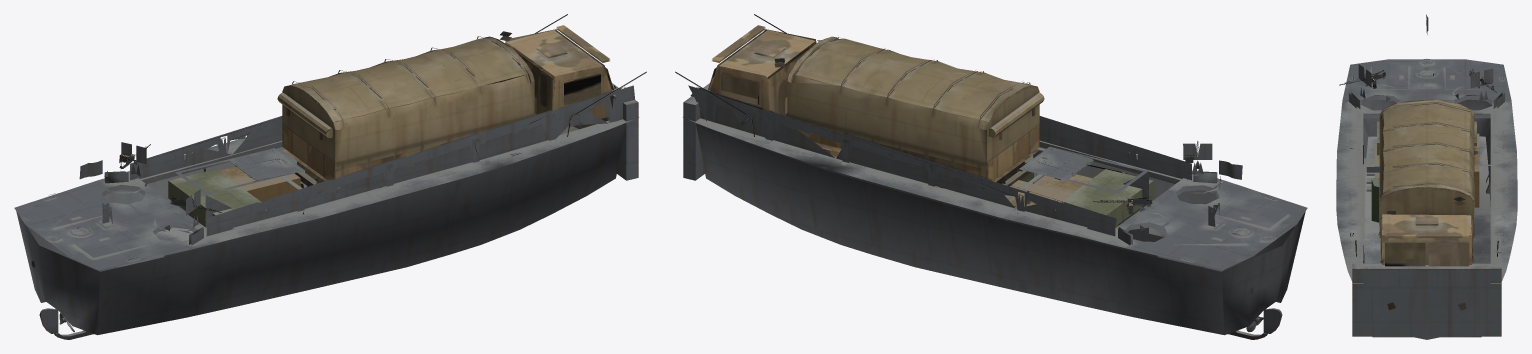
File: fh_battle_e_ship_landing.glb
The picture shows the model from 3 angles, left to right: view 1: azimuth 30°, elevation 25°; view 2: azimuth 150°, elevation 25°; view 3: azimuth 270°, elevation 25°; orthographic projection. The views are drawn at different scales.
Parts seen in each view (by area): view 1: body; view 2: body; view 3: body.
Part boxes in pixels (x1,y1,x2,y2): body: [14, 14, 646, 339]; body: [675, 14, 1307, 339]; body: [1336, 14, 1517, 339].
Bounding box in the file's own units: 0.9961 × 0.3157 × 0.3073.
2 materials, 2 textured.
